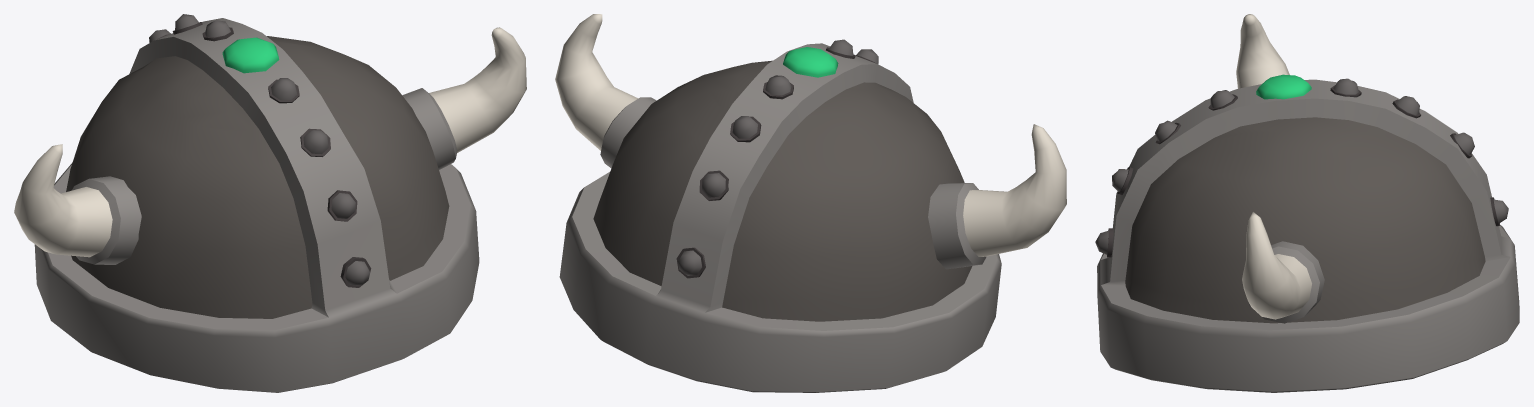
File: Hat_20_01.fbx
3 renders of one model, left to right at view 1: azimuth 30°, elevation 25°; view 2: azimuth 150°, elevation 25°; view 3: azimuth 270°, elevation 25°, orthographic. The views are drawn at different scales.
Visible parts, largest first — view 1: Hat_20_01; view 2: Hat_20_01; view 3: Hat_20_01.
Part boxes in pixels (<box>): Hat_20_01: <box>14,14,526,392</box>; Hat_20_01: <box>555,14,1066,392</box>; Hat_20_01: <box>1095,14,1519,392</box>.
Size of the model in its own units: 45.58 by 23.13 by 34.59.
